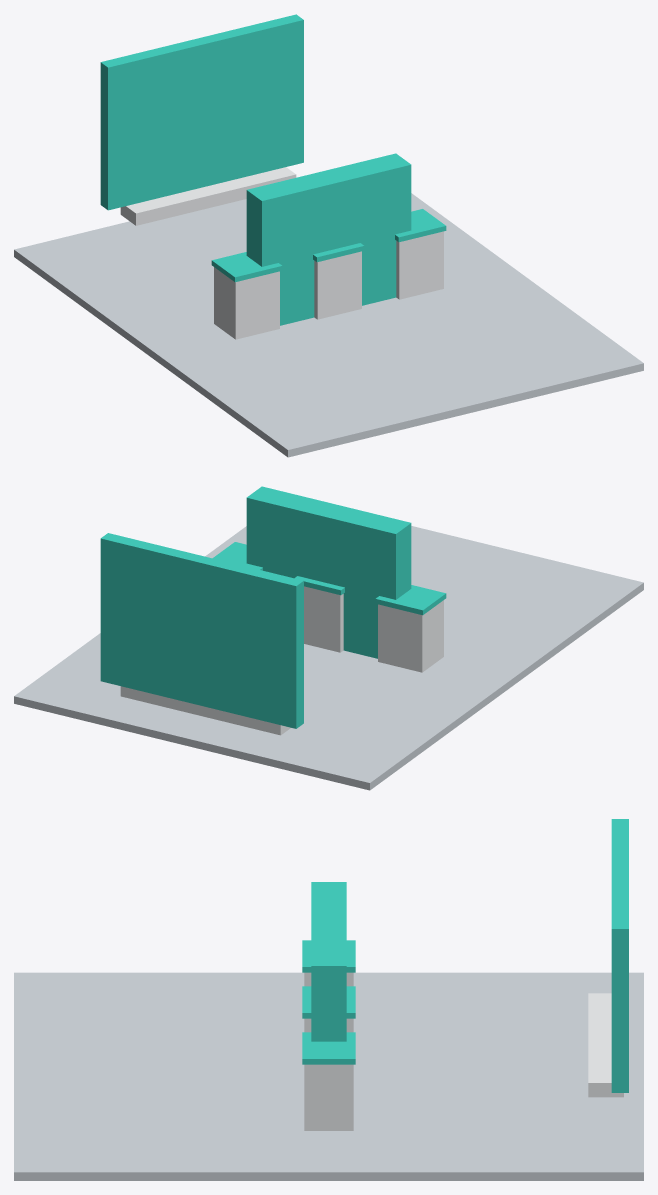
The picture shows the model from 3 angles, top to bottom: view 1: azimuth 30°, elevation 25°; view 2: azimuth 150°, elevation 25°; view 3: azimuth 270°, elevation 25°; orthographic projection. The views are drawn at different scales.
Parts seen in each view (by area): view 1: Exhibition Booth Concept; view 2: Exhibition Booth Concept; view 3: Exhibition Booth Concept.
Part boxes in pixels (left/top/right/bottom): Exhibition Booth Concept: left=14, top=14, right=643, bottom=457; Exhibition Booth Concept: left=14, top=486, right=643, bottom=790; Exhibition Booth Concept: left=14, top=819, right=643, bottom=1180.
Size of the model in its own units: 6 by 2.9 by 8.
